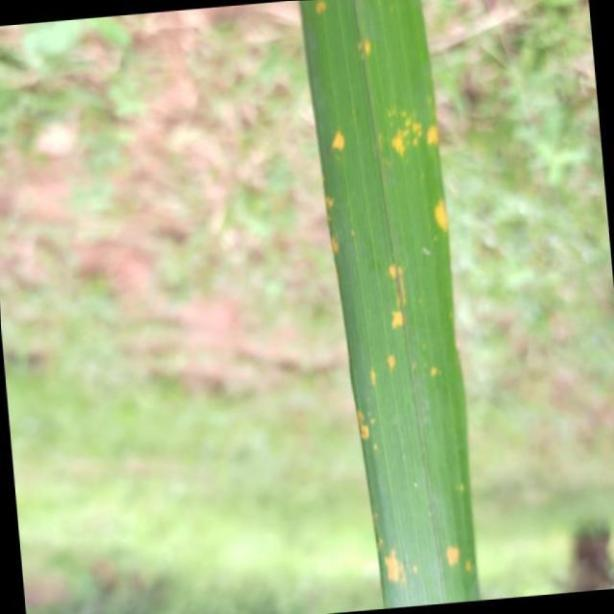Kalium: (300, 0, 480, 603)
